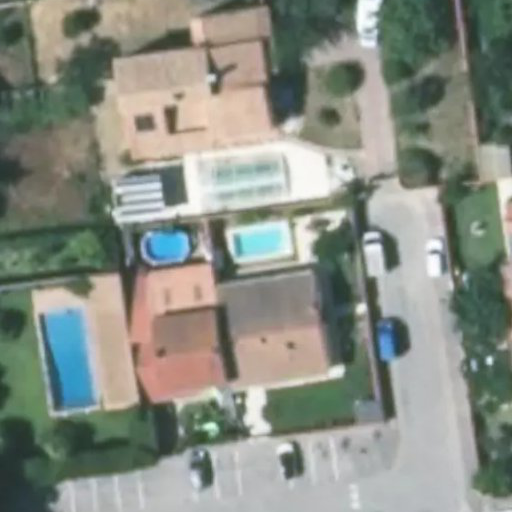pool: (224, 230, 287, 253)
